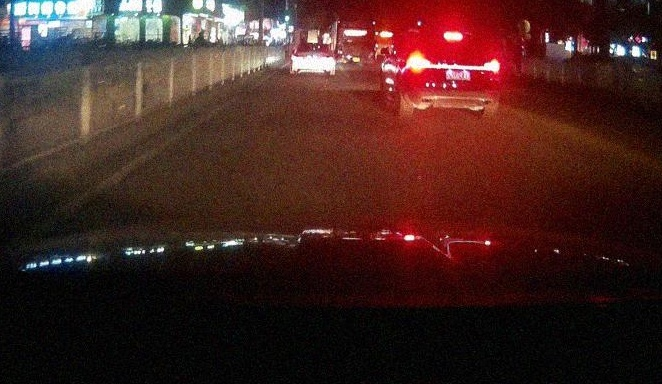L_light: (407, 57, 431, 69)
R_light: (484, 60, 499, 71)
T_light: (444, 32, 463, 39)
night-left: (406, 29, 500, 118)
